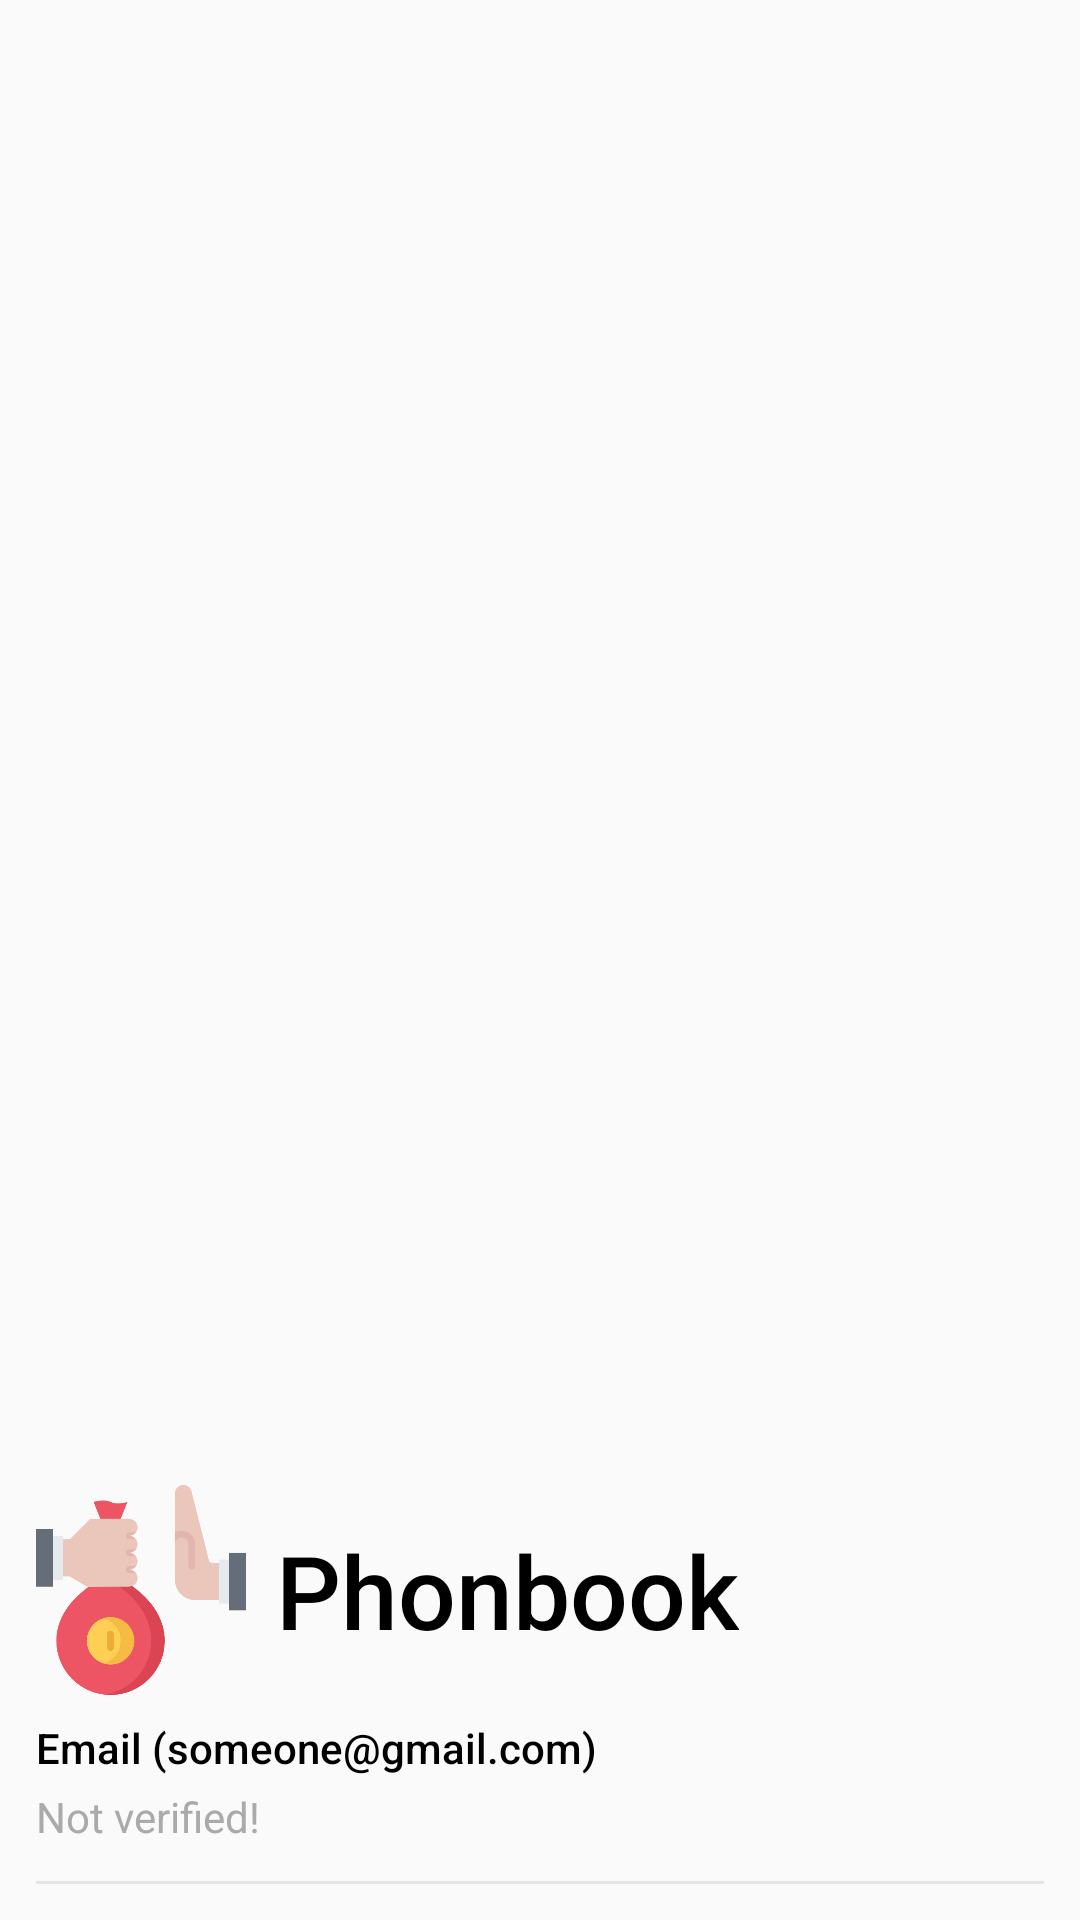

Icons on this 1080px x 1920px Android screen, each with the point to tap as (x=x, y=y):
corruption: (x=141, y=1590)
